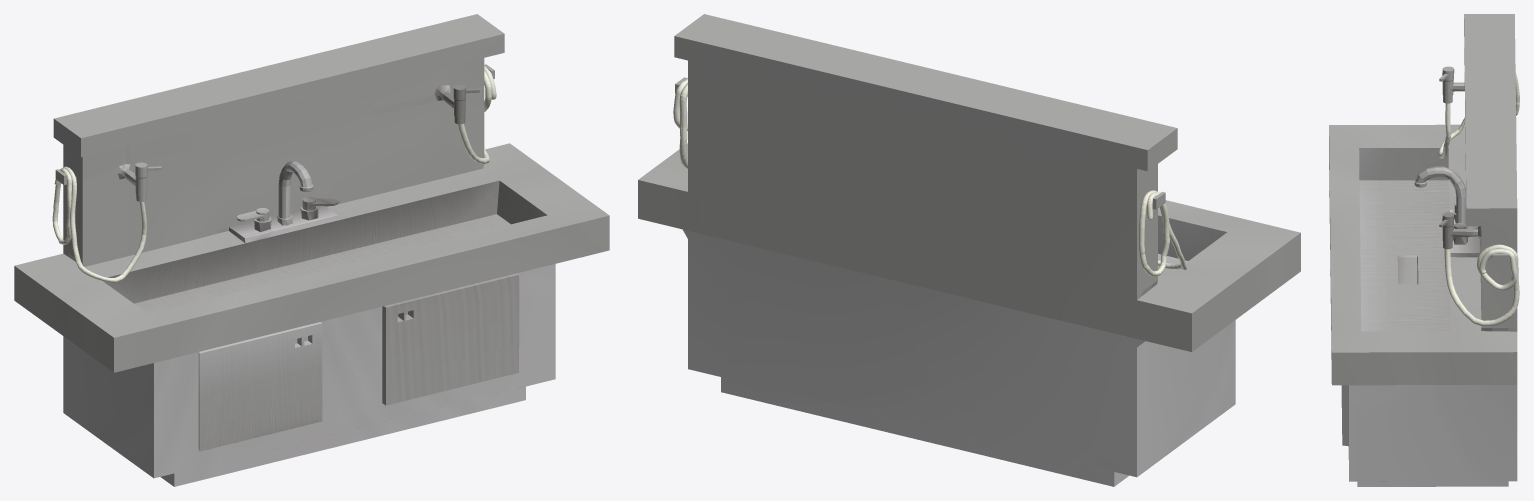
File: evier.fbx
3 views of the same model, side by side, from view 1: azimuth 30°, elevation 25°; view 2: azimuth 150°, elevation 25°; view 3: azimuth 270°, elevation 25° (orthographic). The views are drawn at different scales.
Visible parts, largest first — view 1: table_T1; view 2: table_T1; view 3: table_T1.
Boxes of the visible parts, x1=… form: table_T1: x1=14, y1=14, x2=609, y2=486; table_T1: x1=638, y1=14, x2=1300, y2=486; table_T1: x1=1329, y1=14, x2=1519, y2=486.
Size of the model in its own units: 110 by 66.81 by 39.12.
Materials: 3 (2 with a texture image).
